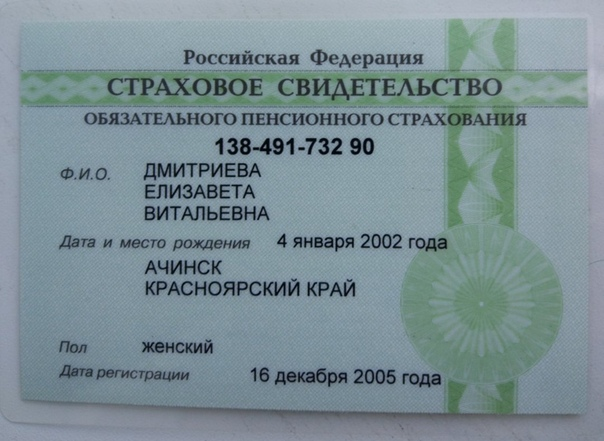text: (141, 257, 367, 301), (246, 363, 444, 391), (275, 228, 453, 256), (209, 133, 385, 159), (138, 202, 279, 225), (143, 159, 264, 181), (139, 179, 258, 200), (133, 337, 220, 358)
